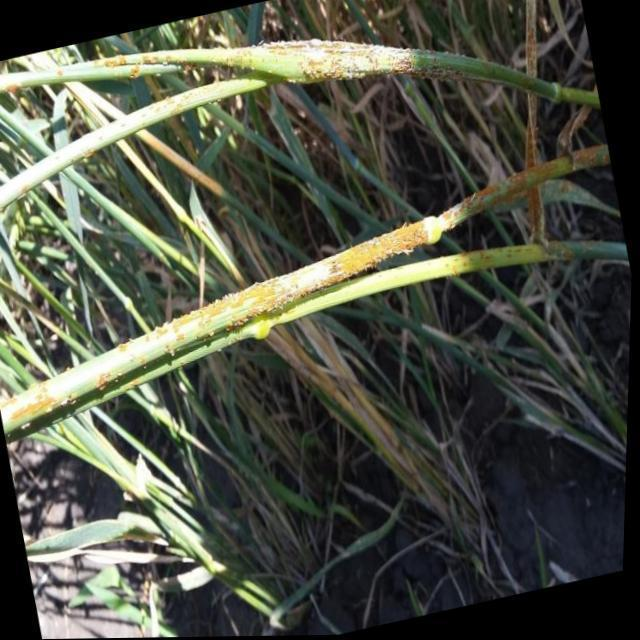Stem Rust: (1, 144, 611, 435), (0, 39, 600, 209), (366, 244, 558, 293)
